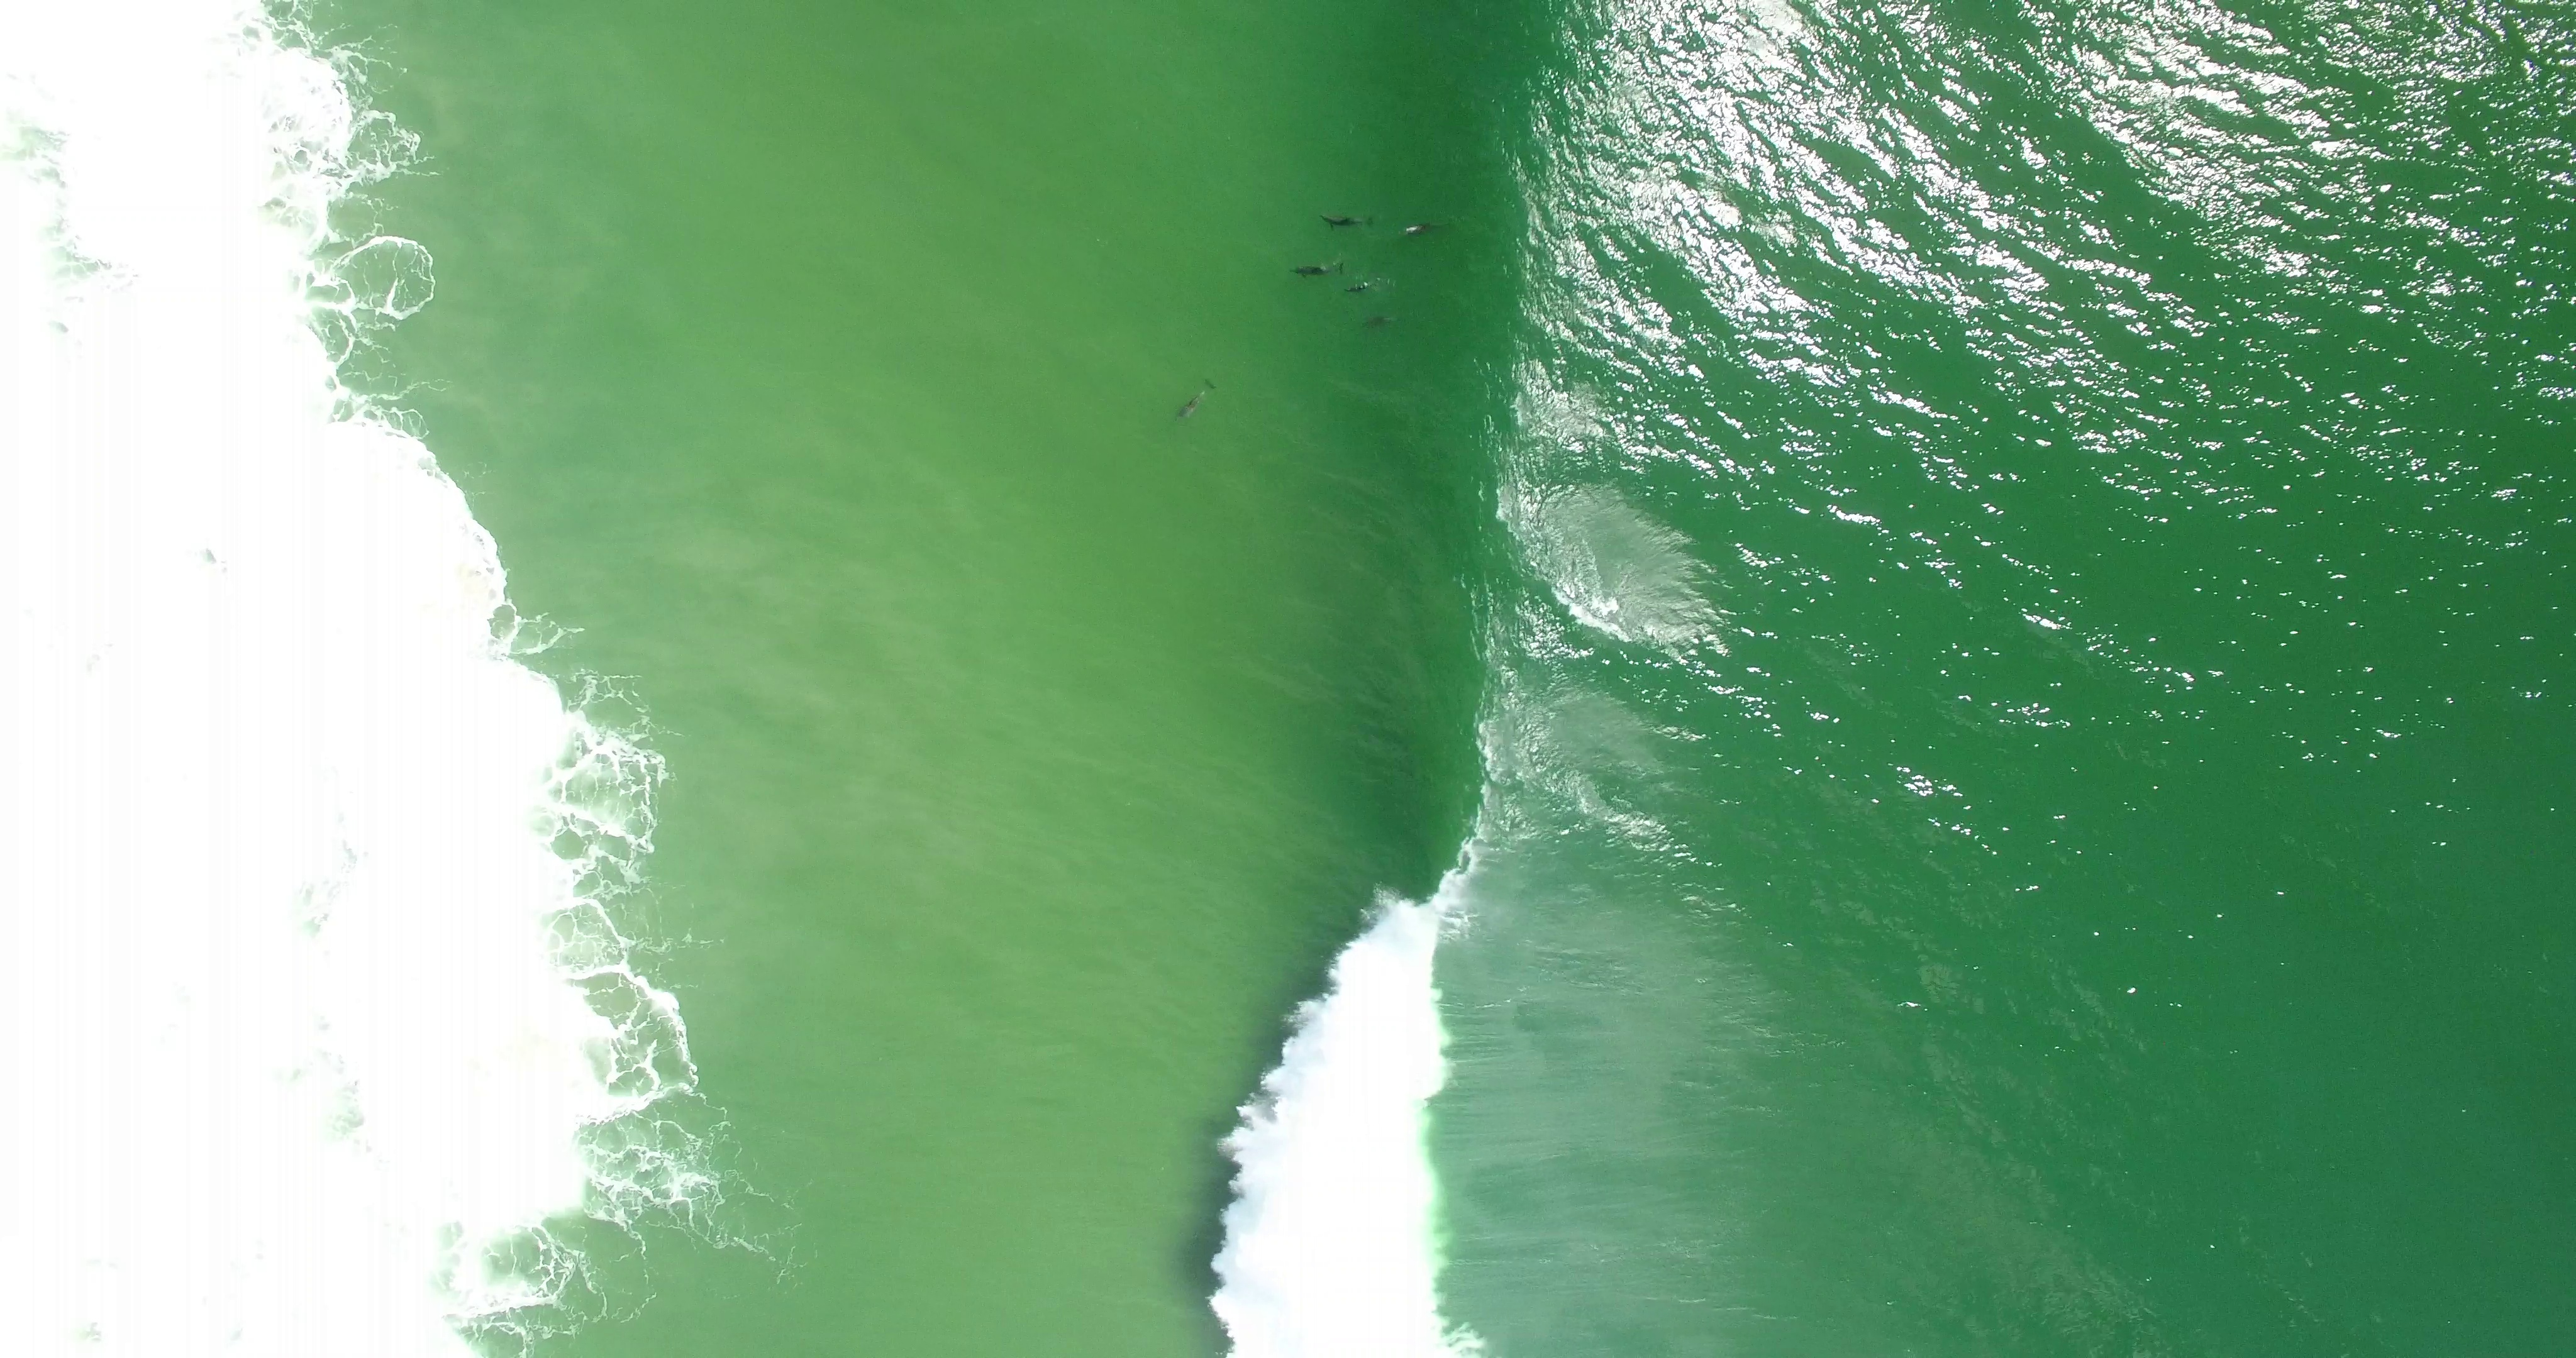dolphin: (1176, 377, 1215, 423), (1290, 252, 1349, 281), (1317, 206, 1377, 232), (1343, 274, 1387, 293), (1365, 310, 1404, 331), (1404, 218, 1450, 235)
